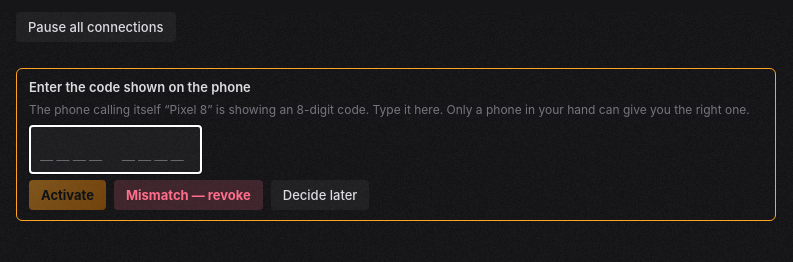
Test case: SettingsMobileTab › a failed activation is reported, not silently swallowed
This screenshot has width=793, height=262.
Type "1234 5678" into the field with test id "pairing-sas-input" at (115, 149), box [29, 125, 202, 174]
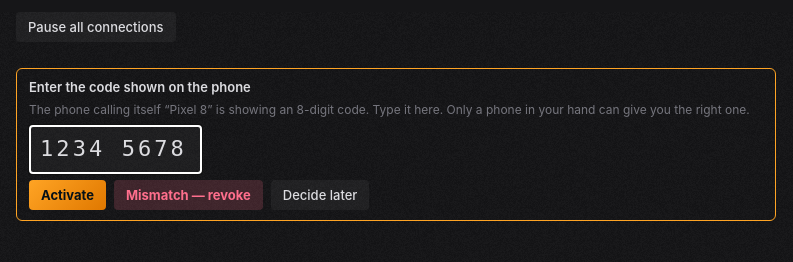
Click the button "Activate" at (67, 195), box [29, 180, 106, 210]
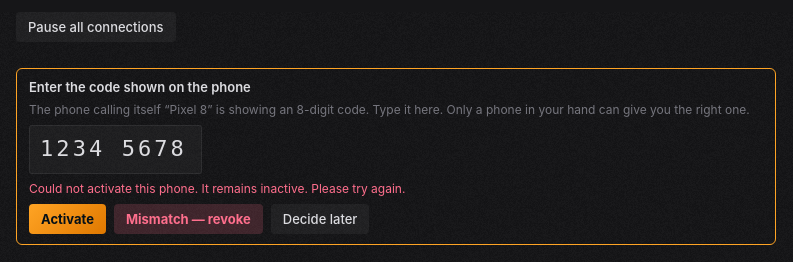
Expected: the text "Could not activate this phone. It remains inactive." is shown, [29, 181, 405, 196]
